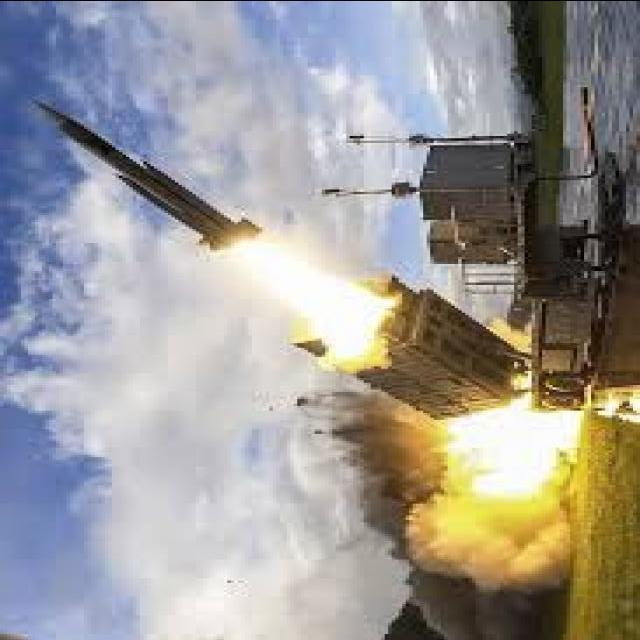missile: (33, 90, 267, 276)
